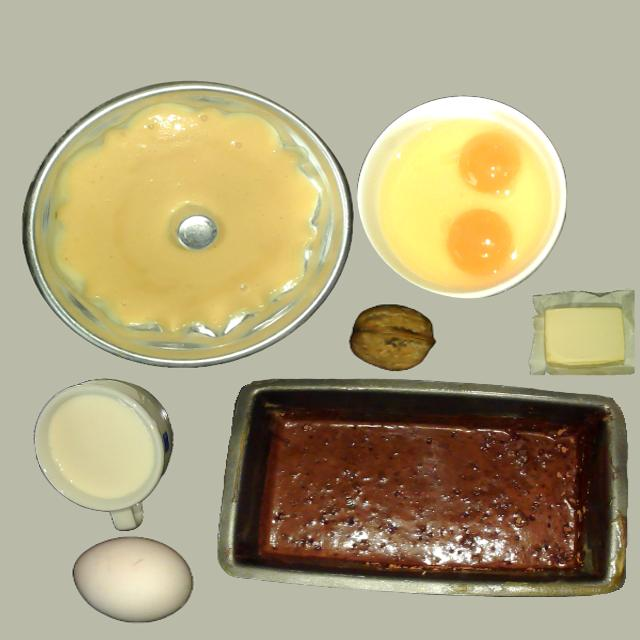Egg: (446, 209, 513, 275), (458, 132, 523, 194)
Milk: (50, 397, 154, 498)
Walnut: (349, 305, 433, 371)
